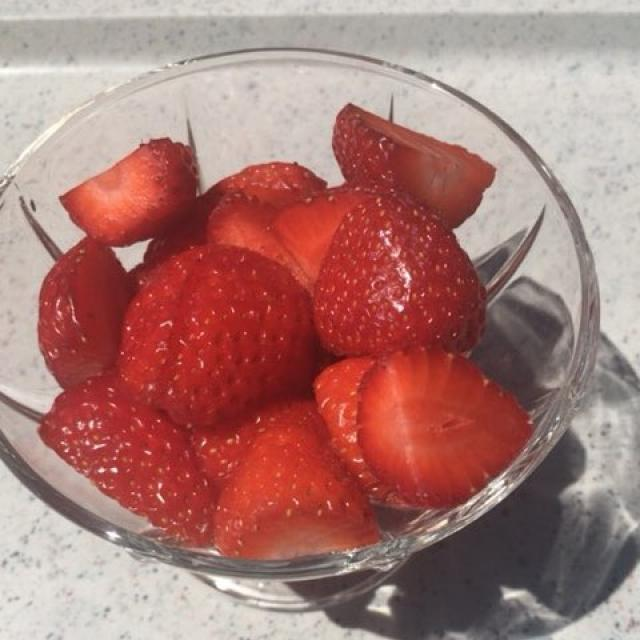strawberries: (45, 129, 522, 542)
